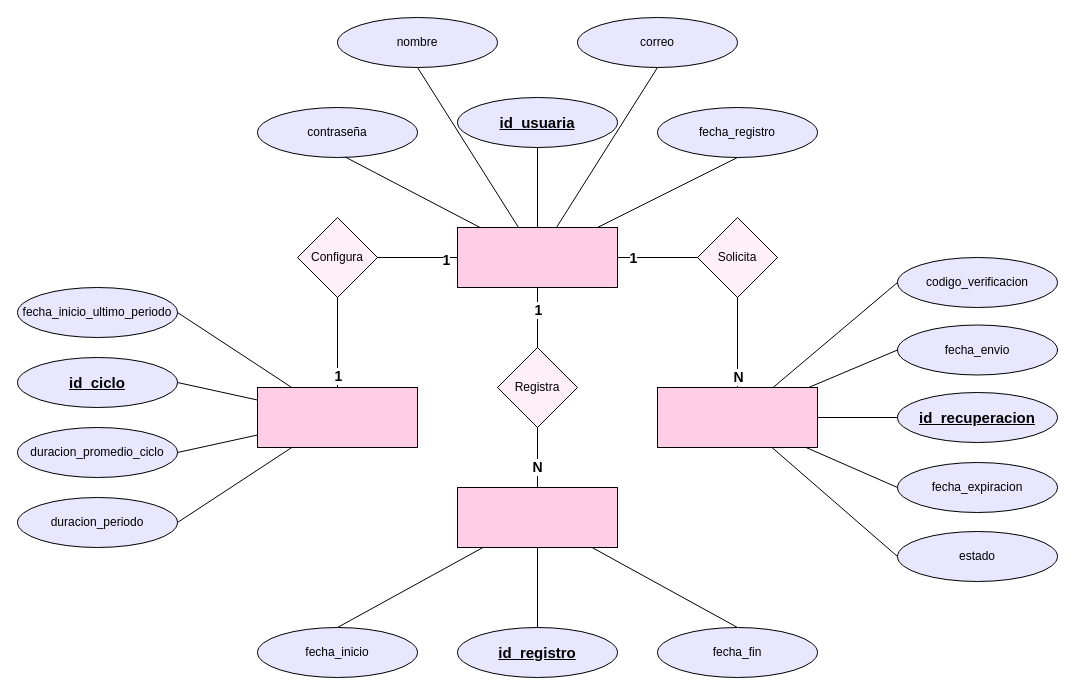
Image size: 1075x695. Some labels were removed from this diagram. Here are the shapes that lost their labels. From the top down, the centre of each, then its label:
[537,257]: Usuaria
[337,417]: Ciclo
[737,417]: RecuperacionContrasena
[537,517]: RegistroPeriodo
